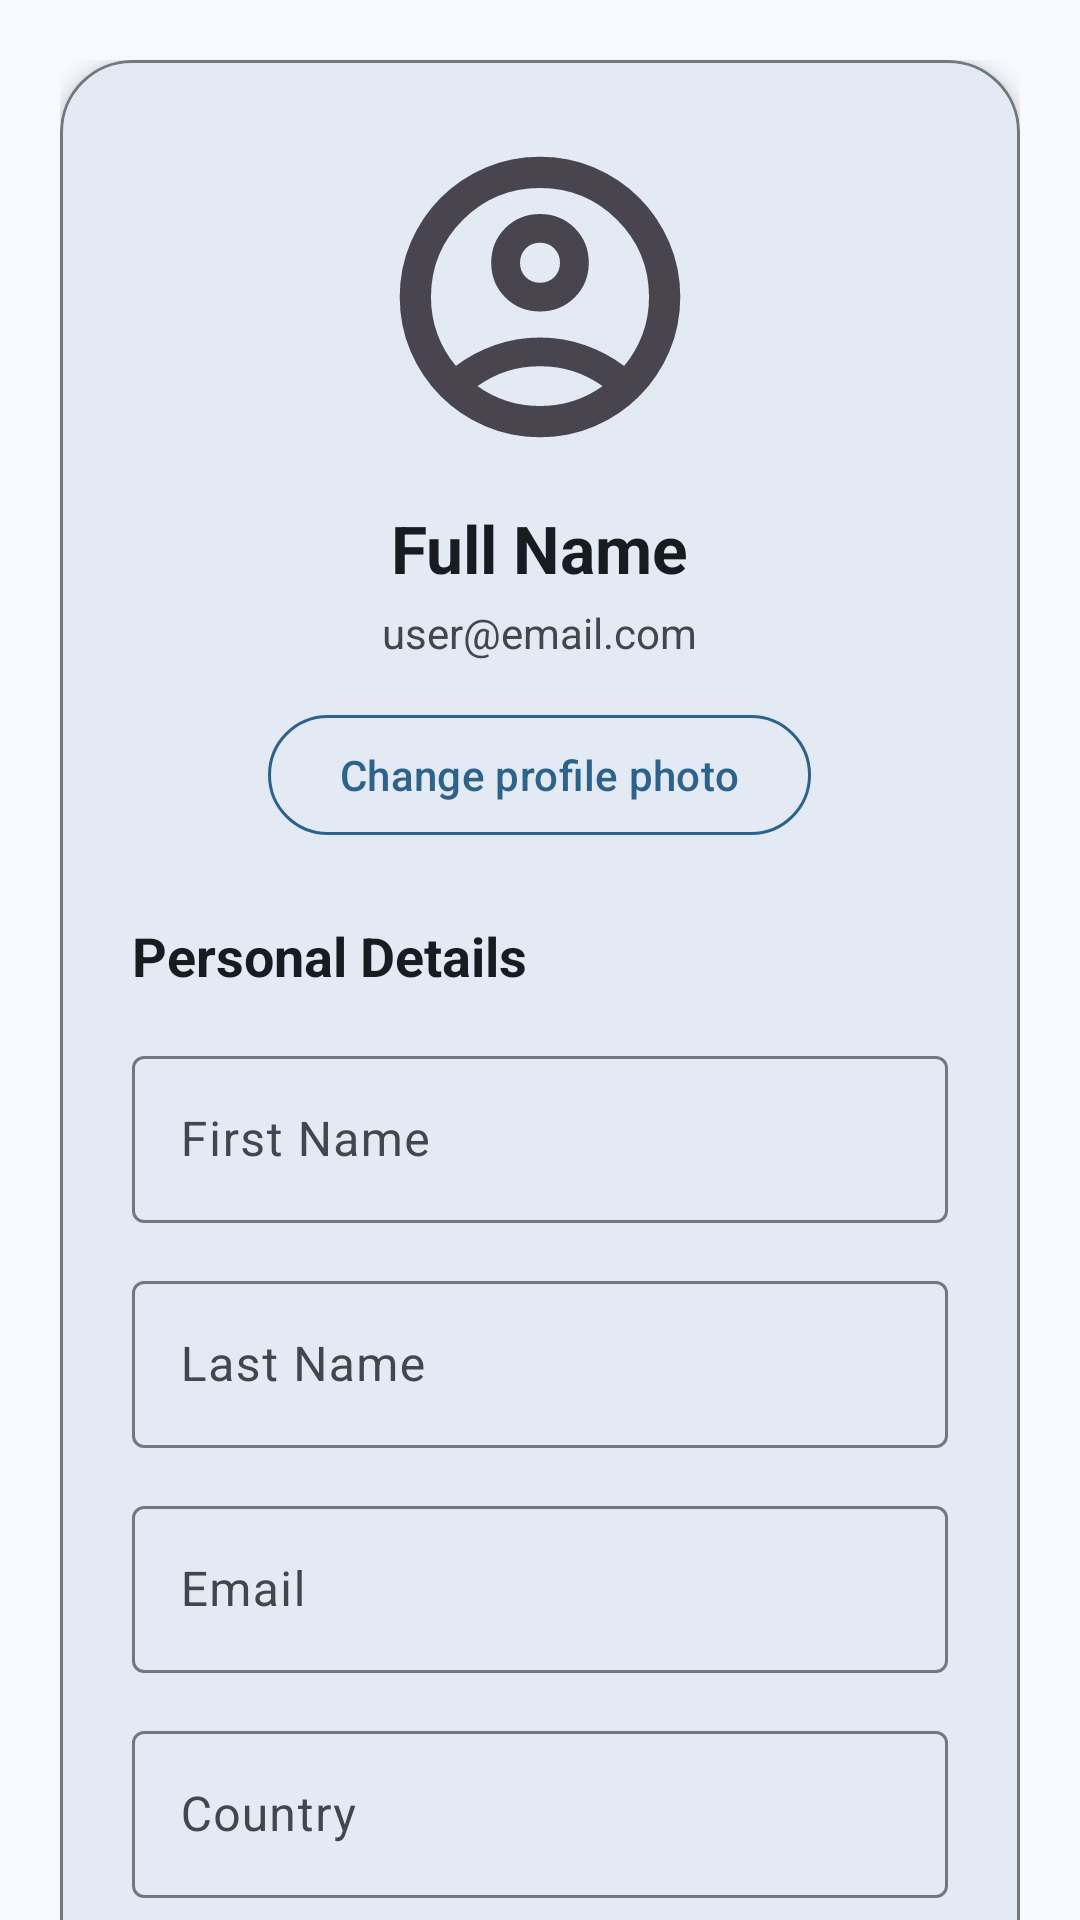

Locate icon controls on the screen. Image size 1080w x 1920h, boxes as (x1, y1, x2, y2).
account circle: (399, 156, 681, 438)
